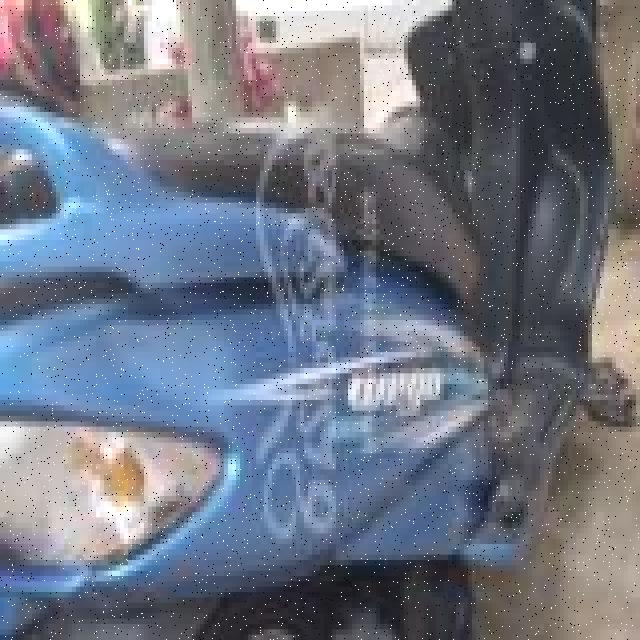motorbike: (0, 53, 628, 640)
